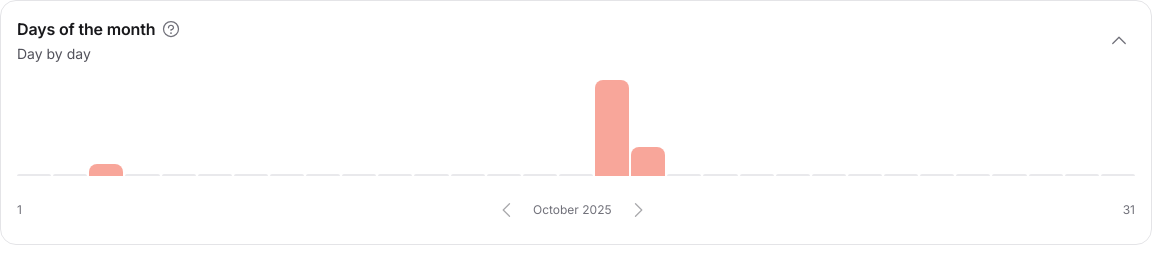
the days of the month › names the day under the pointer with the figures its bar is drawn from
Hover over the button named "17 October: 300" at (612, 128), box [595,80,629,176]
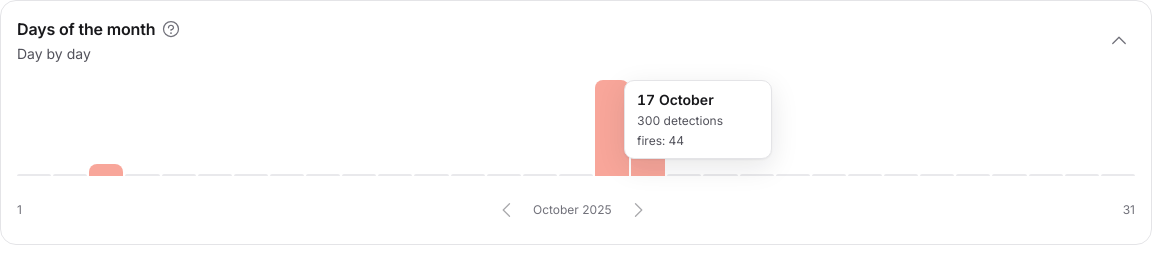
Check: the message shows "17 October", box [637,91,714,108]
Check: the message shows "300 detections", box [637,113,723,128]
Check: the message shows "fires: 44", box [637,133,684,148]
Move the pointer off the button named "17 October: 300", box [595,80,629,176]
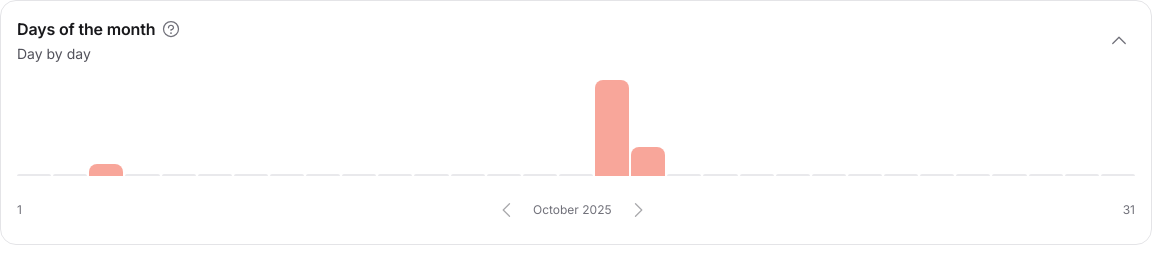
Check: the message "17 October 300 detections fires: 44" is gone
